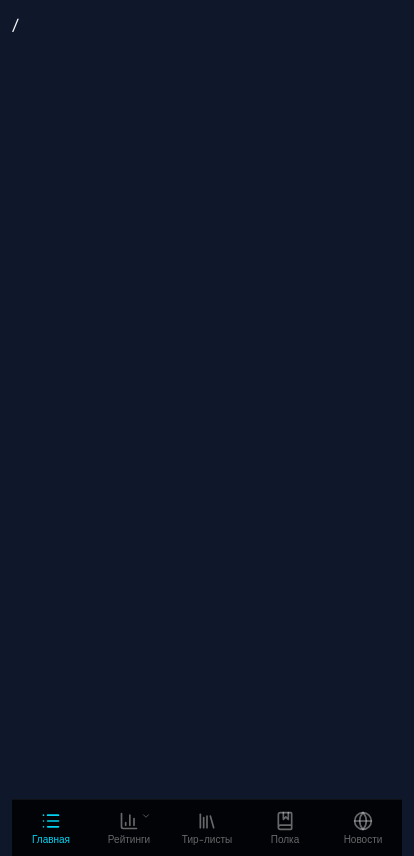
Test: MobileBottomNav — drop-up «Рейтинги» › пункт «Все авторы» ведёт на /authors
Click the button "Рейтинги". click: (129, 828)
box: [90, 800, 168, 855]
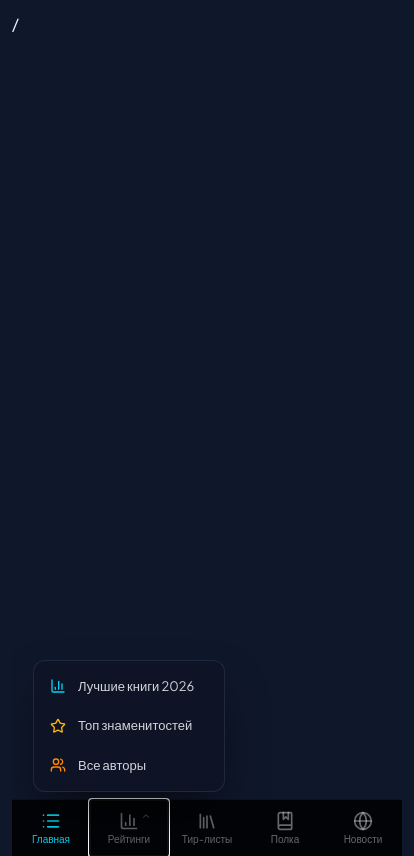
Click the button "Все авторы". click: (129, 765)
box: [34, 746, 224, 785]
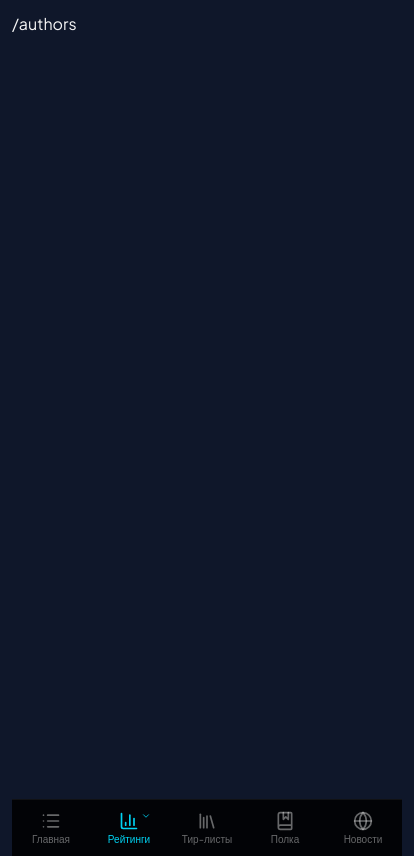
Now the text with test id "location-path" reads "/authors", box [12, 13, 77, 34]
